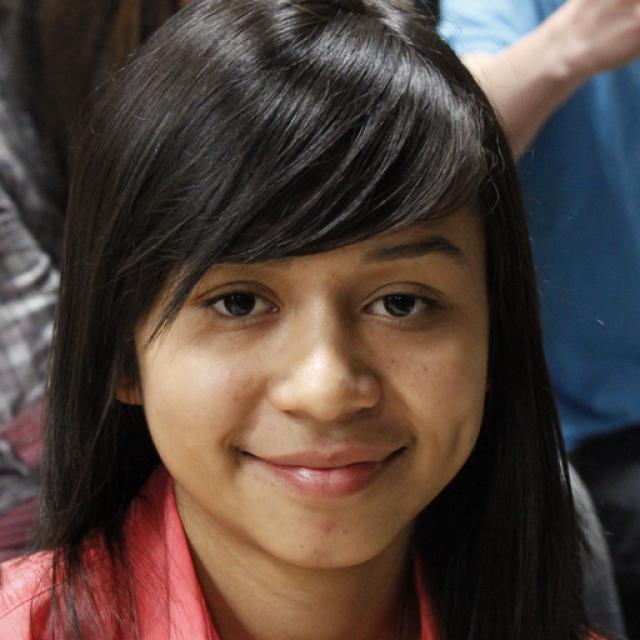happy: (139, 120, 490, 570)
